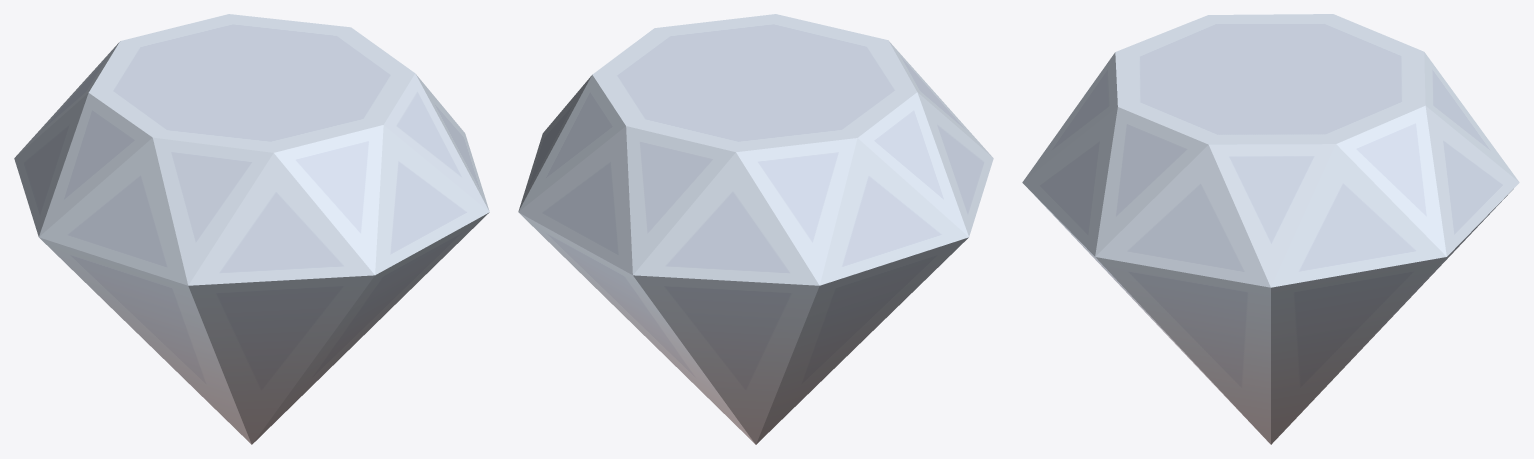
File: diamond.glb
3 views of the same model, side by side, from view 1: azimuth 30°, elevation 25°; view 2: azimuth 150°, elevation 25°; view 3: azimuth 270°, elevation 25° (orthographic).
Parts seen in each view (by area): view 1: Diamond; view 2: Diamond; view 3: Diamond.
Part boxes in pixels (x1,y1,x2,y2): Diamond: (14,14,489,444); Diamond: (518,14,993,444); Diamond: (1022,14,1519,444).
Size of the model in its own units: 0.9894 by 0.8025 by 0.9894.
Materials: 1 (1 with a texture image).
